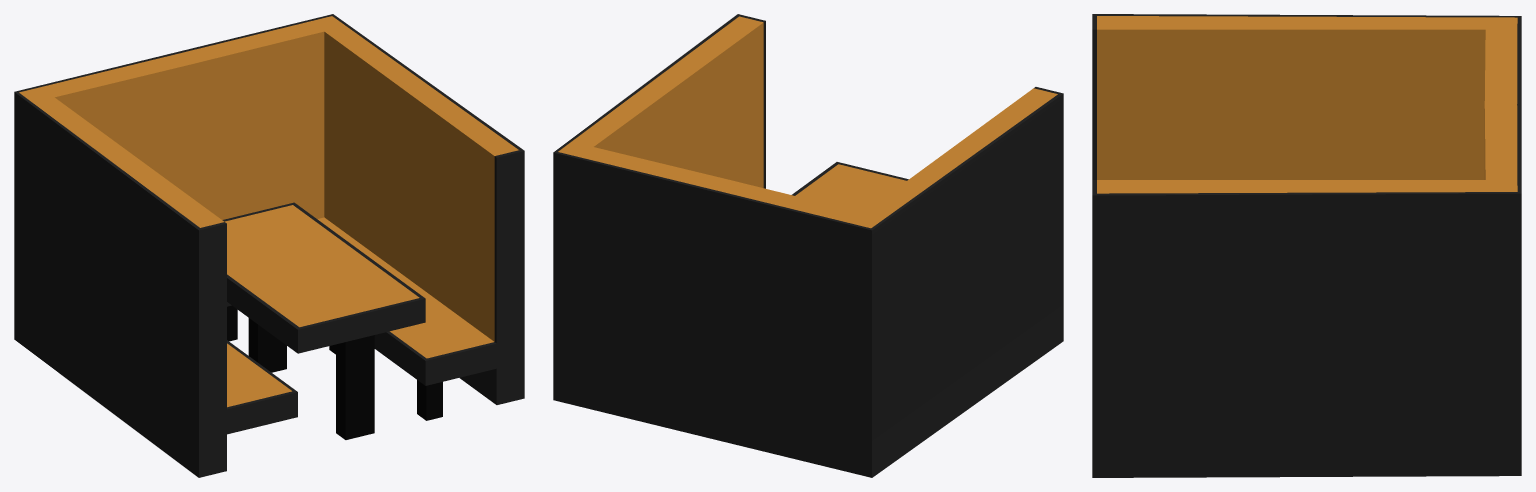
File: SeatingBooth-Canteen_04.fbx
3 renders of one model, left to right at view 1: azimuth 30°, elevation 25°; view 2: azimuth 150°, elevation 25°; view 3: azimuth 270°, elevation 25°, orthographic. The views are drawn at different scales.
Visible parts, largest first — view 1: SeatingBooth_04; view 2: SeatingBooth_04; view 3: SeatingBooth_04.
Part boxes in pixels (x1=…): SeatingBooth_04: x1=14, y1=14, x2=524, y2=477; SeatingBooth_04: x1=553, y1=14, x2=1063, y2=477; SeatingBooth_04: x1=1092, y1=14, x2=1521, y2=477.
Bounding box in the file's own units: 2.75 × 2 × 2.75.
